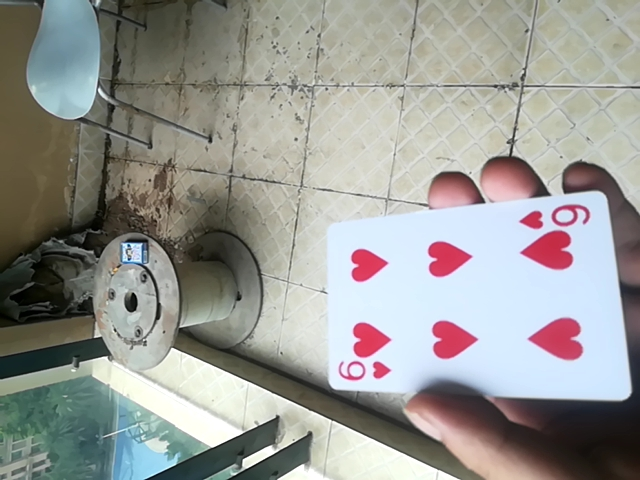hx 6: (317, 187, 631, 403)
